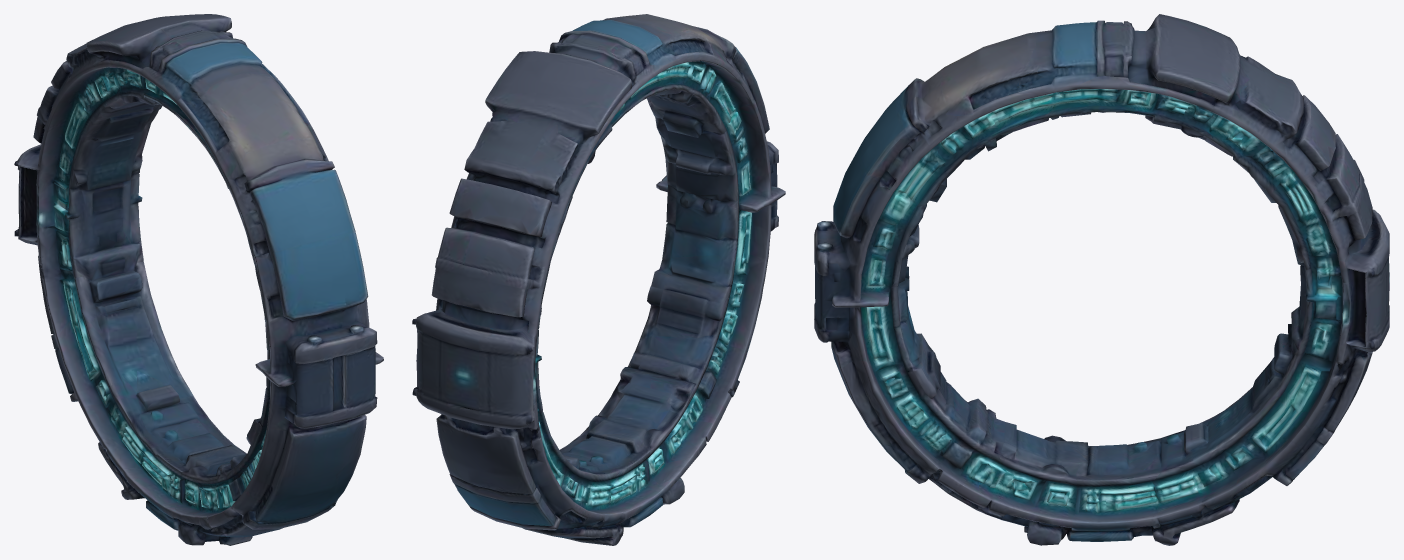
Rendered from portal_arch-DNf7PBYb.glb.
3 renders of one model, left to right at view 1: azimuth 30°, elevation 25°; view 2: azimuth 150°, elevation 25°; view 3: azimuth 270°, elevation 25°, orthographic. The views are drawn at different scales.
Visible parts, largest first — view 1: tripo_node_a2b091c3-c6d7-40e0-b4d6-af86ae30580f; view 2: tripo_node_a2b091c3-c6d7-40e0-b4d6-af86ae30580f; view 3: tripo_node_a2b091c3-c6d7-40e0-b4d6-af86ae30580f.
Part boxes in pixels (box(x1,y1,x2,y2)): tripo_node_a2b091c3-c6d7-40e0-b4d6-af86ae30580f: box(14, 14, 383, 545); tripo_node_a2b091c3-c6d7-40e0-b4d6-af86ae30580f: box(412, 14, 785, 545); tripo_node_a2b091c3-c6d7-40e0-b4d6-af86ae30580f: box(814, 14, 1389, 545).
Bounding box in the file's own units: 0.2479 × 0.9497 × 0.9982.
Materials: 1 (1 with a texture image).
